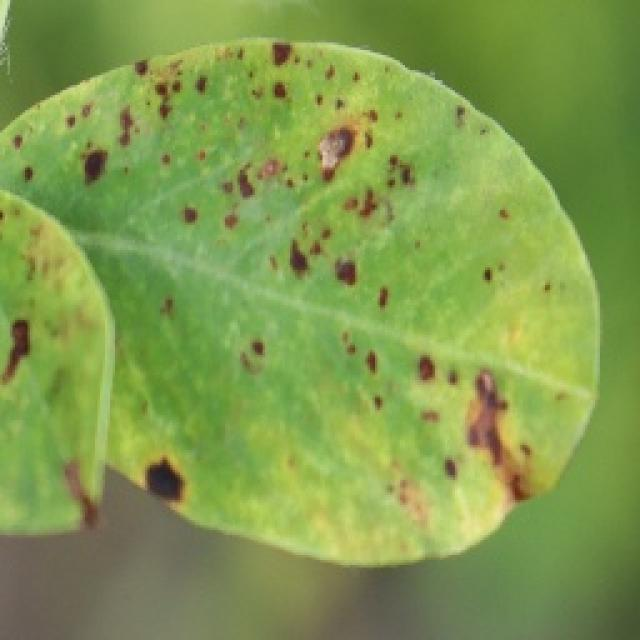Yellowish: (0, 45, 550, 560)
